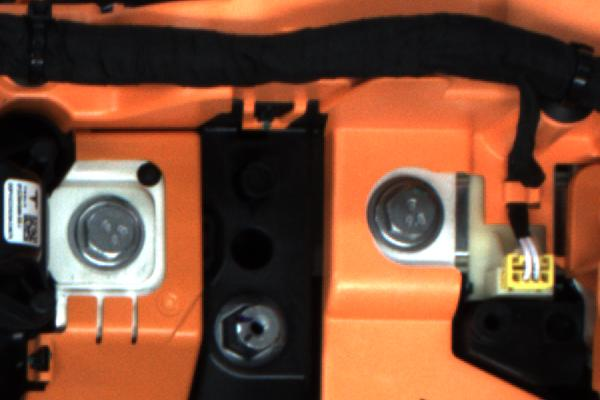nut_b: (353, 168, 448, 260), (61, 188, 149, 278)
